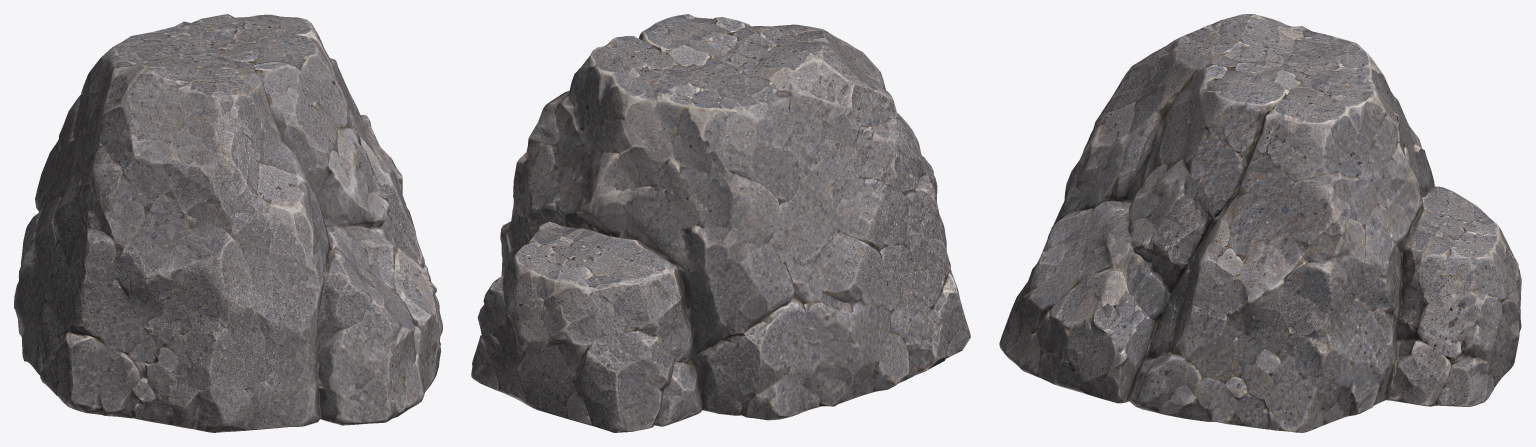
Rendered from runtime.glb.
3 renders of one model, left to right at view 1: azimuth 30°, elevation 25°; view 2: azimuth 150°, elevation 25°; view 3: azimuth 270°, elevation 25°, orthographic. The views are drawn at different scales.
Parts seen in each view (by area): view 1: tripo_node_5c73d5ff-0ffb-40eb-bd00-c3beaba5a3c1; view 2: tripo_node_5c73d5ff-0ffb-40eb-bd00-c3beaba5a3c1; view 3: tripo_node_5c73d5ff-0ffb-40eb-bd00-c3beaba5a3c1.
Boxes of the visible parts, left/top/right/bottom form: tripo_node_5c73d5ff-0ffb-40eb-bd00-c3beaba5a3c1: left=14, top=14, right=442, bottom=432; tripo_node_5c73d5ff-0ffb-40eb-bd00-c3beaba5a3c1: left=471, top=14, right=970, bottom=432; tripo_node_5c73d5ff-0ffb-40eb-bd00-c3beaba5a3c1: left=999, top=14, right=1521, bottom=432.
Bounding box in the file's own units: 0.8718 × 0.5995 × 1.
Materials: 1 (1 with a texture image).
